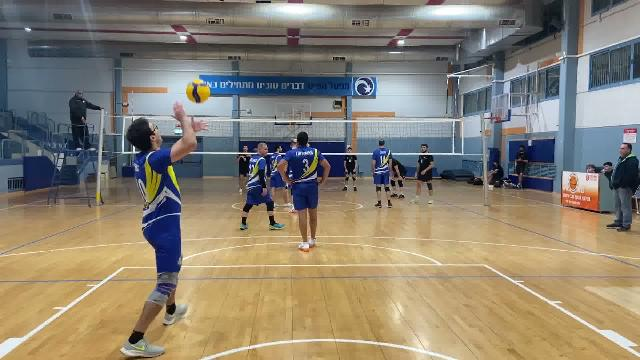ball: (182, 76, 214, 106)
